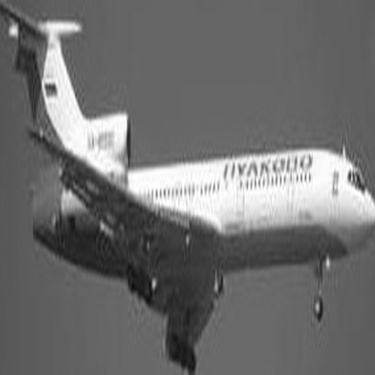airplane: (1, 3, 363, 367)
